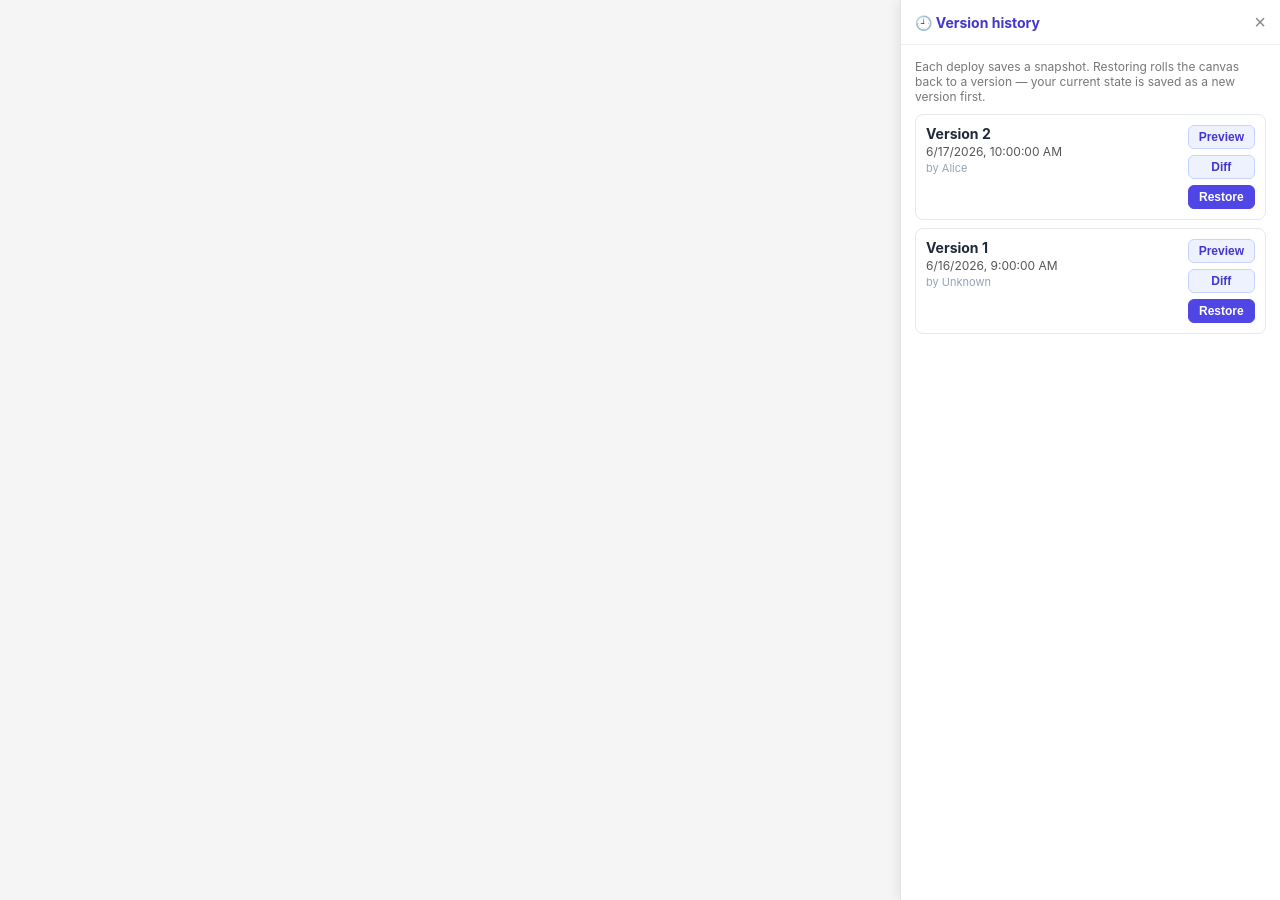
HistoryPanel › cancelling the confirmation restores nothing
Expected: the text "Version 2" is shown, [926,125,991,142]
Click the button "Restore" below "Alice": (1221, 197) [1188,185,1255,209]
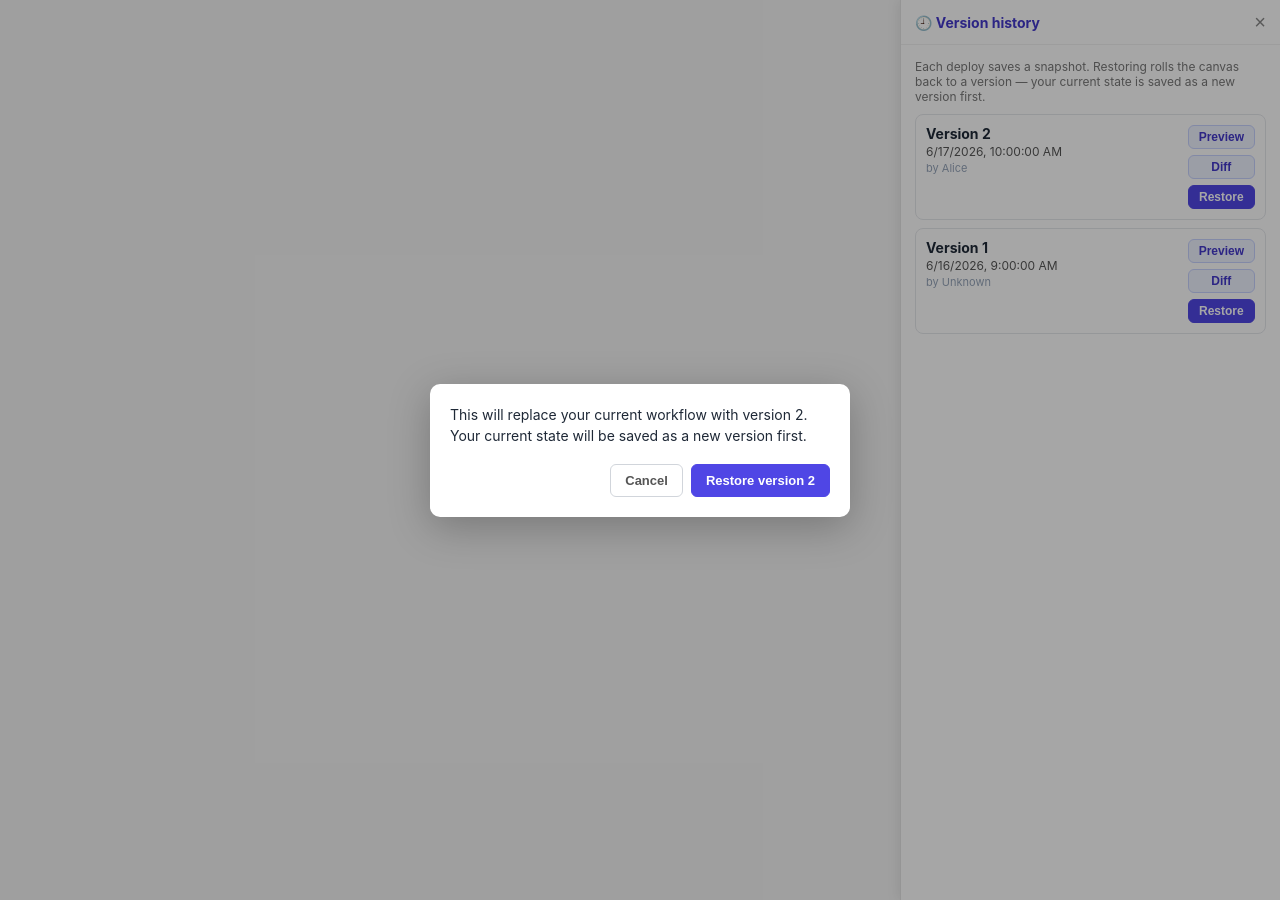
Click the button "Cancel": (647, 480) [610,464,683,496]
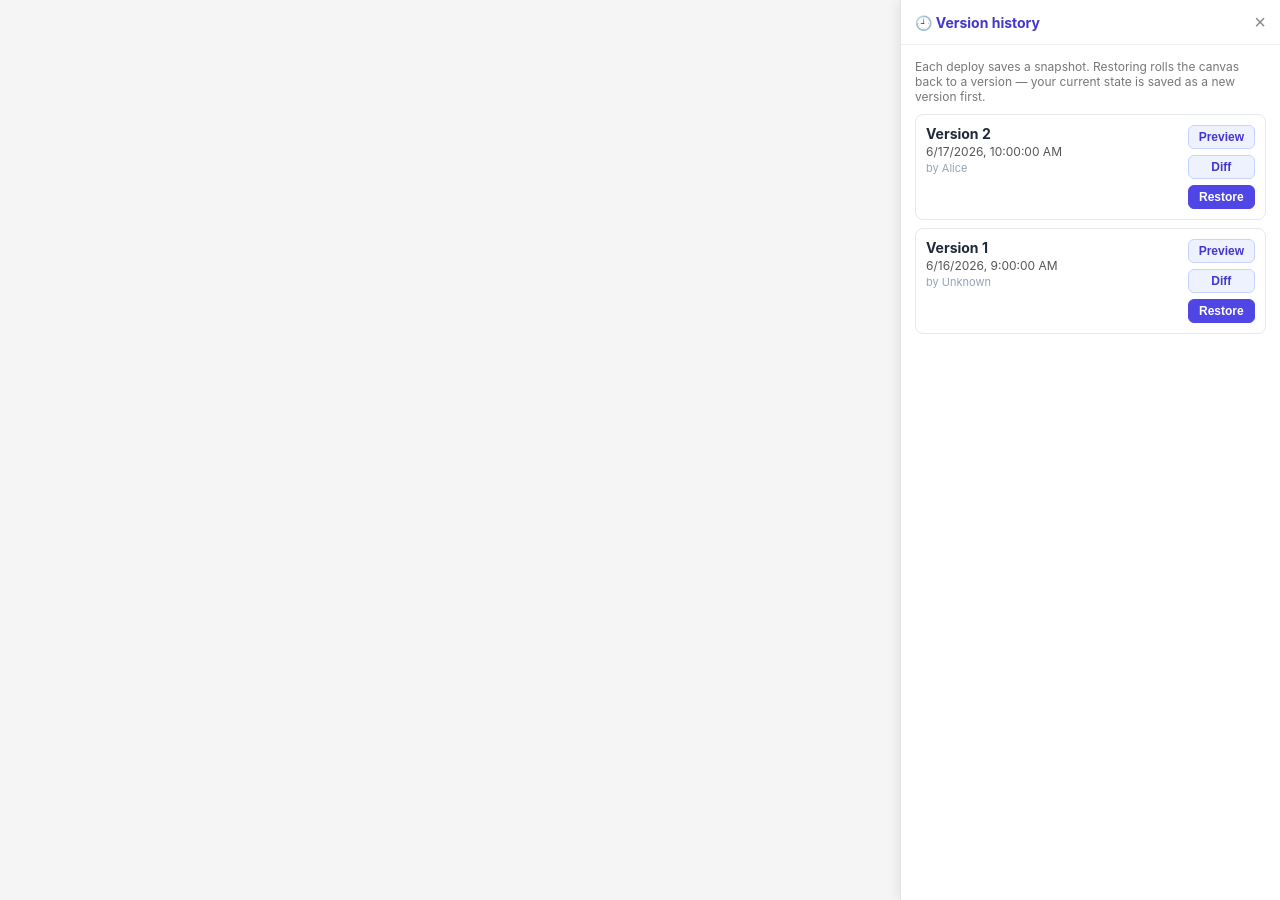
Now the dialog is gone
